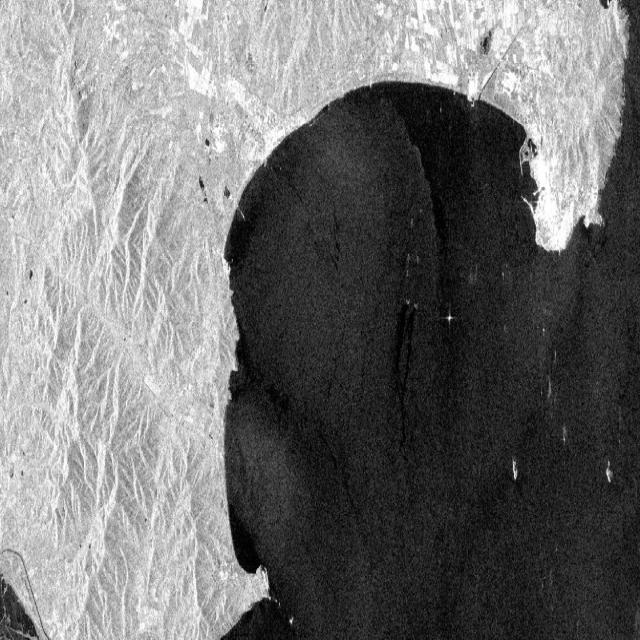oil-spill: (391, 307, 422, 442)
ship: (444, 309, 454, 329)
